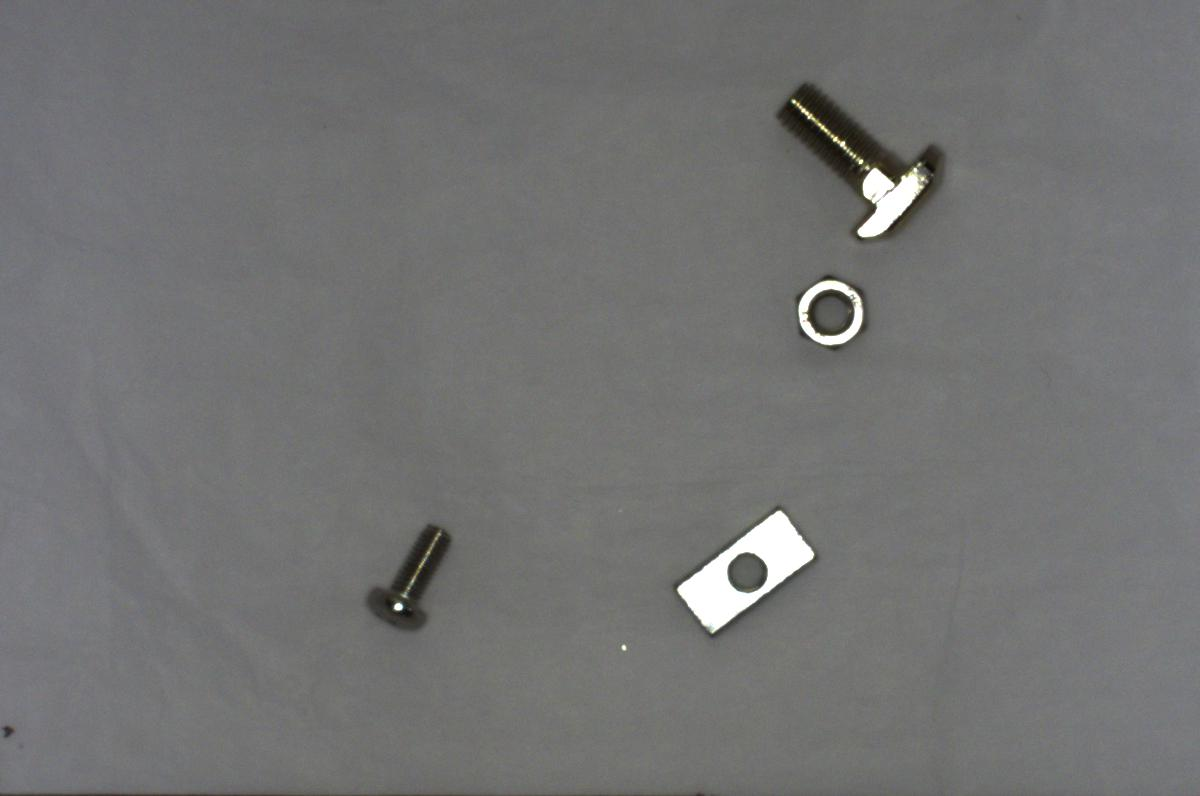Hexagon nut: (786, 274, 874, 349)
Rectangular nut: (670, 501, 819, 634)
Round head screw: (362, 518, 454, 632)
T-shaped screw: (775, 74, 951, 246)
